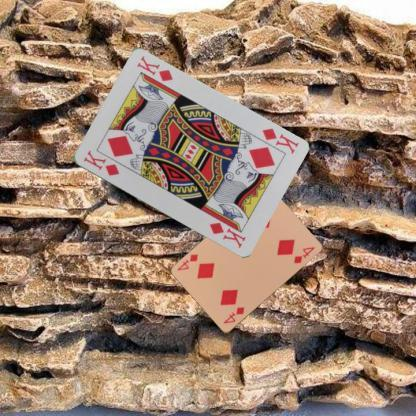4d: (221, 304, 245, 326)
Kd: (259, 125, 300, 155), (80, 148, 120, 178)
